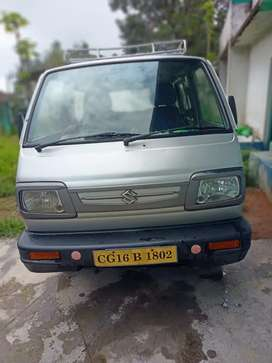CG16B1802: (92, 245, 177, 267)
